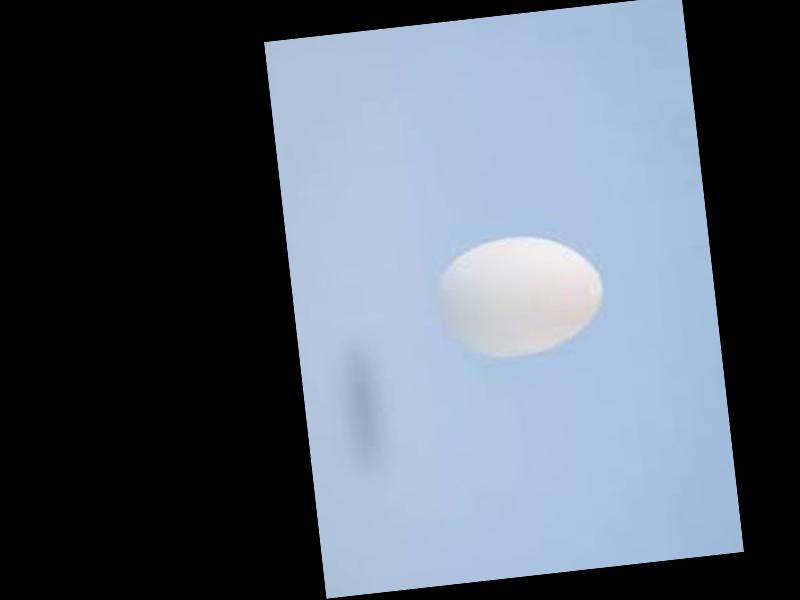Eggs: (429, 227, 609, 365)
